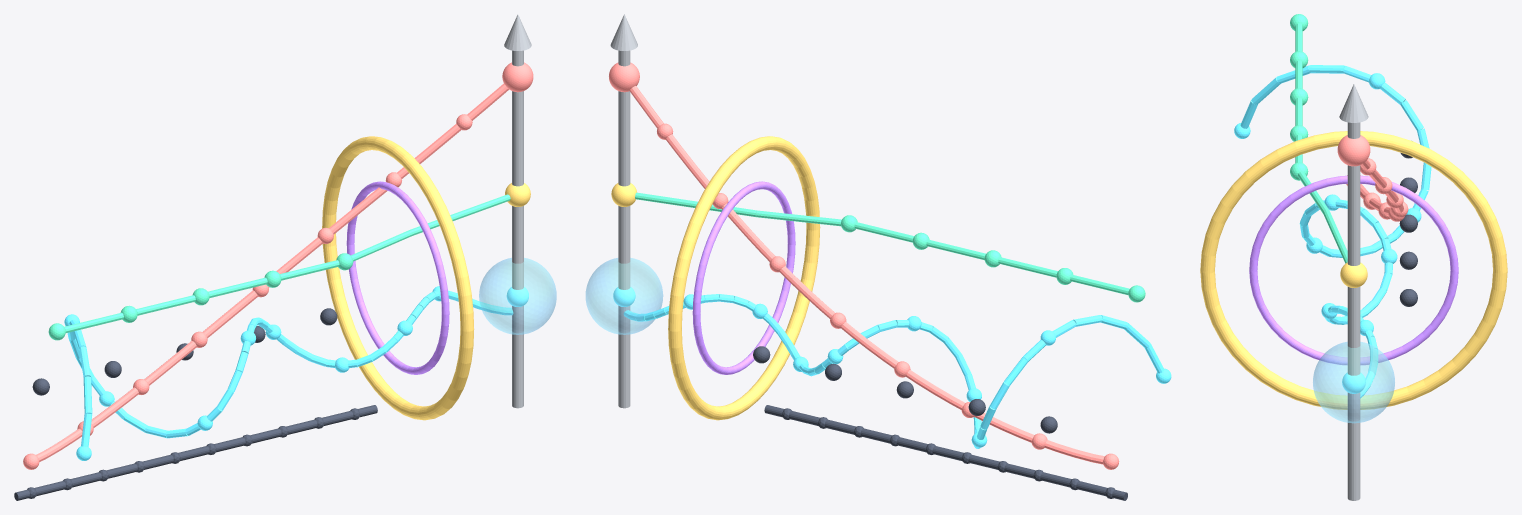
Rendered from ultrapower_germs.glb.
The picture shows the model from 3 angles, left to right: view 1: azimuth 30°, elevation 25°; view 2: azimuth 150°, elevation 25°; view 3: azimuth 270°, elevation 25°; orthographic projection. The views are drawn at different scales.
Parts seen in each view (by area): view 1: Mesh_HyperGold, Mesh_InfinitesimalCyan, Mesh_UnlimitedCoral, Mesh_HaloGlass, Mesh_ObsidianSlate, Mesh_StandardSilver, Mesh_GalaxyEmerald, Mesh_UltrafilterViolet; view 2: Mesh_HyperGold, Mesh_InfinitesimalCyan, Mesh_UnlimitedCoral, Mesh_ObsidianSlate, Mesh_HaloGlass, Mesh_StandardSilver, Mesh_GalaxyEmerald, Mesh_UltrafilterViolet; view 3: Mesh_HyperGold, Mesh_InfinitesimalCyan, Mesh_HaloGlass, Mesh_StandardSilver, Mesh_UltrafilterViolet, Mesh_GalaxyEmerald, Mesh_UnlimitedCoral, Mesh_ObsidianSlate.
Part boxes in pixels (x1,y1,x2,y2): Mesh_HyperGold: (322, 136, 530, 420); Mesh_InfinitesimalCyan: (64, 286, 528, 460); Mesh_UnlimitedCoral: (23, 62, 533, 469); Mesh_HaloGlass: (479, 258, 556, 334); Mesh_ObsidianSlate: (14, 308, 377, 500); Mesh_StandardSilver: (504, 14, 531, 408); Mesh_GalaxyEmerald: (48, 194, 510, 340); Mesh_UltrafilterViolet: (346, 181, 449, 374); Mesh_HyperGold: (611, 136, 820, 420); Mesh_InfinitesimalCyan: (613, 287, 1171, 448); Mesh_UnlimitedCoral: (609, 62, 1119, 469); Mesh_ObsidianSlate: (753, 346, 1127, 500); Mesh_HaloGlass: (585, 258, 663, 334); Mesh_StandardSilver: (610, 14, 637, 408); Mesh_GalaxyEmerald: (635, 192, 1145, 302); Mesh_UltrafilterViolet: (692, 181, 795, 374); Mesh_HyperGold: (1200, 131, 1507, 409); Mesh_InfinitesimalCyan: (1234, 65, 1431, 398); Mesh_HaloGlass: (1313, 342, 1394, 423); Mesh_StandardSilver: (1339, 84, 1368, 500); Mesh_UltrafilterViolet: (1249, 175, 1458, 364); Mesh_GalaxyEmerald: (1290, 14, 1347, 263); Mesh_UnlimitedCoral: (1337, 135, 1408, 221); Mesh_ObsidianSlate: (1399, 153, 1417, 306).
Bounding box in the file's own units: 0.715 × 0.5 × 0.336.
